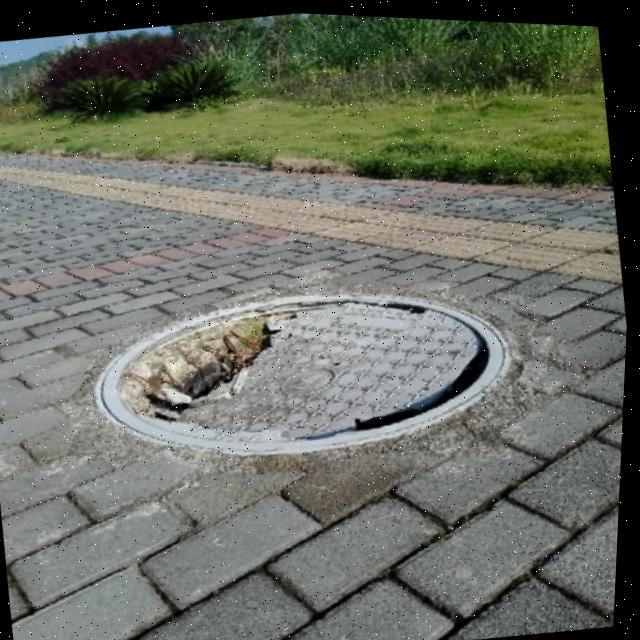manhole: (65, 241, 556, 498)
